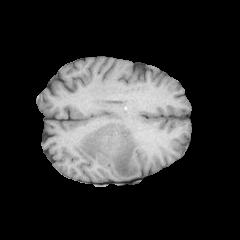glioma: (78, 122, 140, 179)
